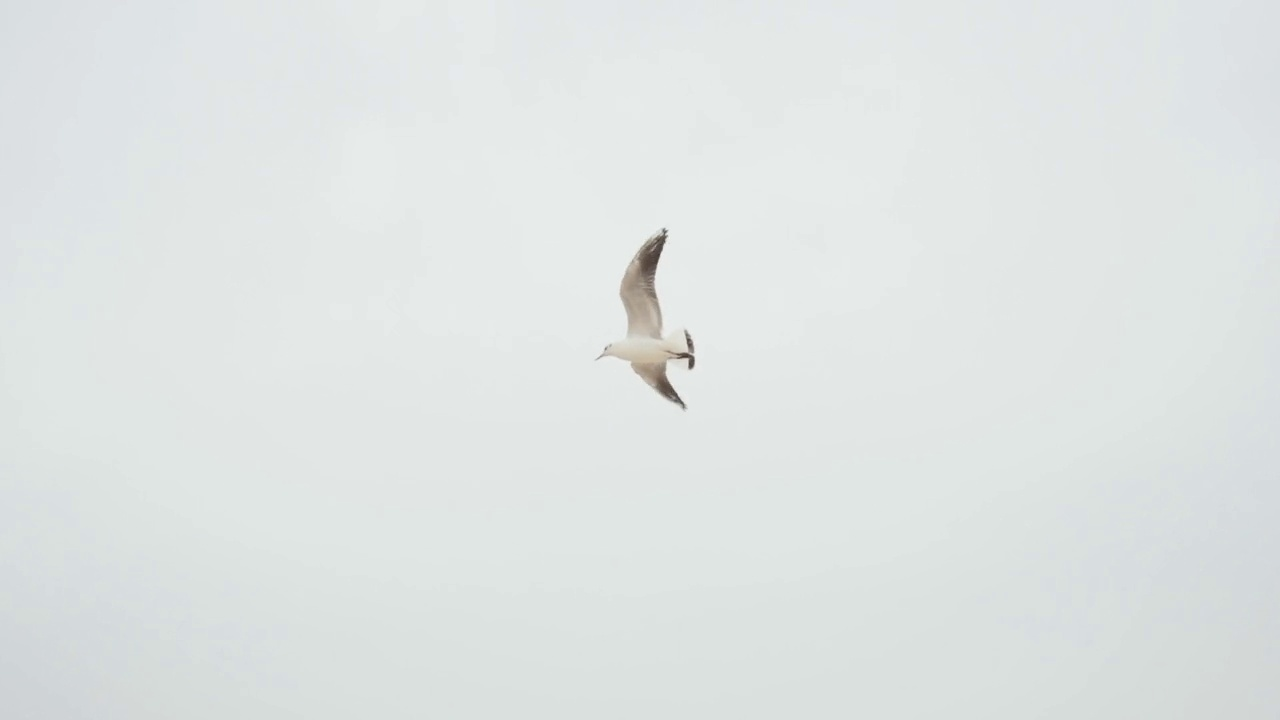bird: (596, 228, 695, 410)
